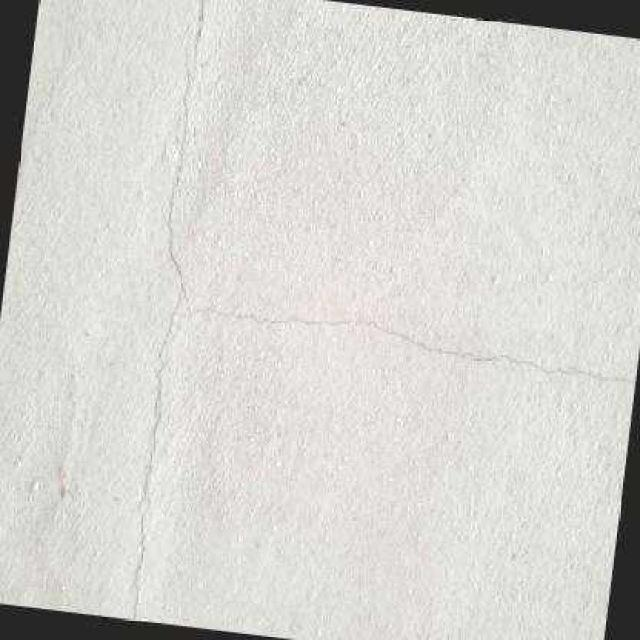D00: (127, 0, 636, 620)
